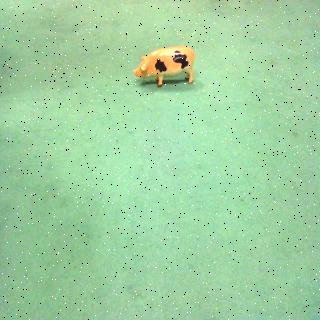pig: (133, 45, 201, 89)
